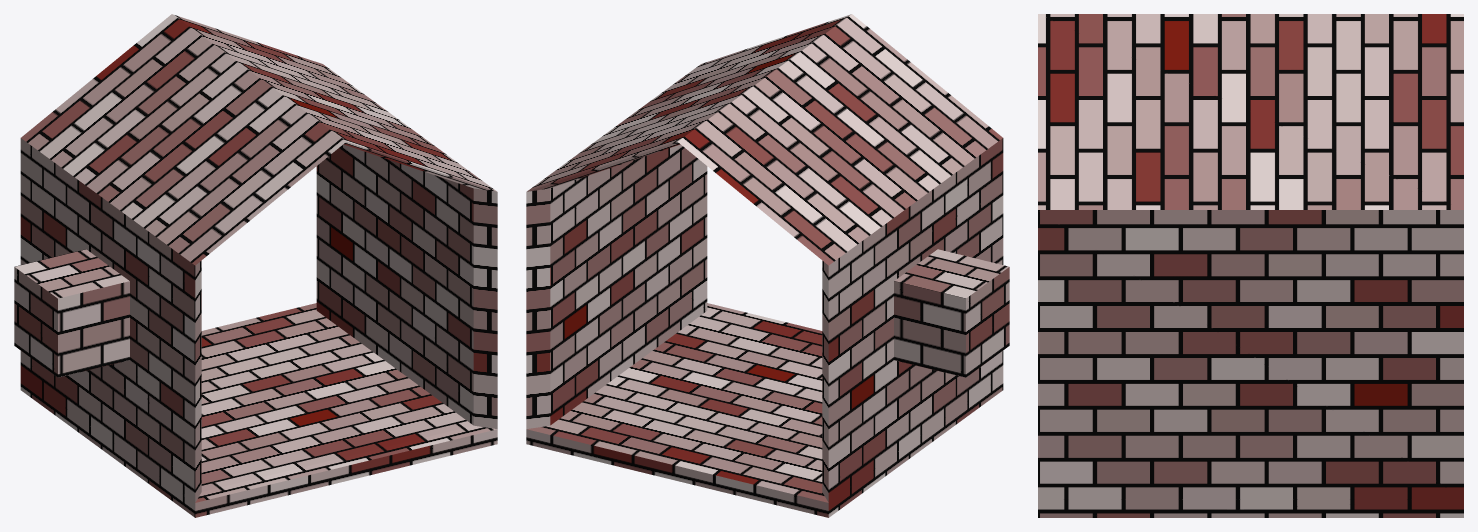
File: hallwayWindowed.glb
3 renders of one model, left to right at view 1: azimuth 30°, elevation 25°; view 2: azimuth 150°, elevation 25°; view 3: azimuth 270°, elevation 25°, orthographic. The views are drawn at different scales.
Visible parts, largest first — view 1: baked.001; view 2: baked.001; view 3: baked.001.
Part boxes in pixels (x1=…): baked.001: x1=14, y1=14, x2=497, y2=517; baked.001: x1=526, y1=14, x2=1009, y2=517; baked.001: x1=1038, y1=14, x2=1463, y2=517.
Bounding box in the file's own units: 4.95 × 4.29 × 4.
1 material, 1 textured.
